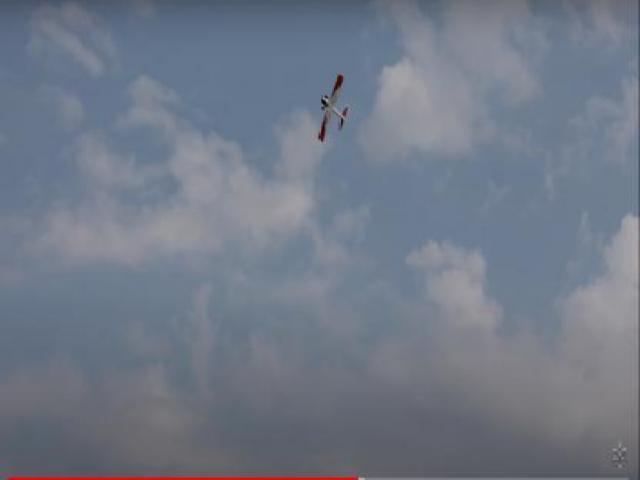uav: (314, 69, 352, 146)
